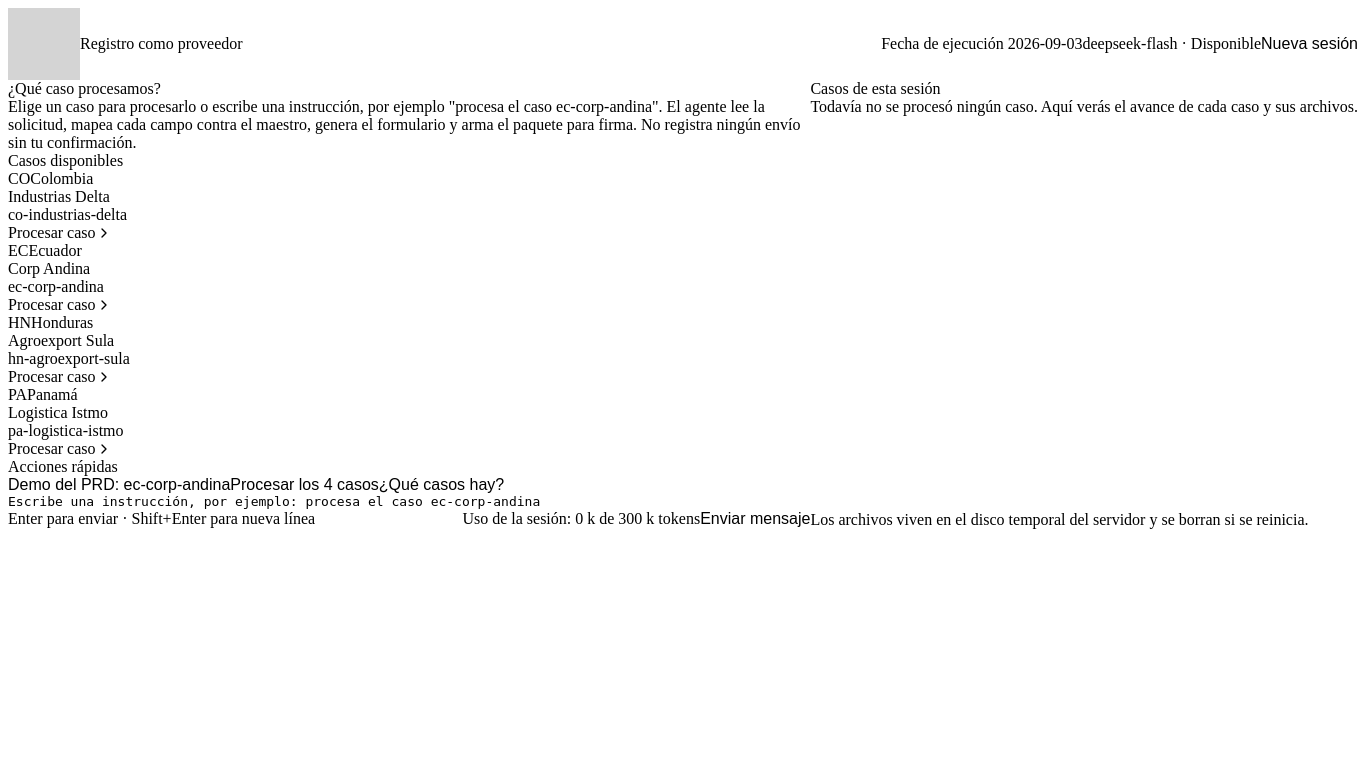
Scenario: App en escritorio: panel de casos y archivos › un 401 al pedir la vista previa devuelve a la pantalla de acceso con el aviso del servidor
Click the button "¿Qué casos hay?" at (442, 485), box [379,476,504,494]
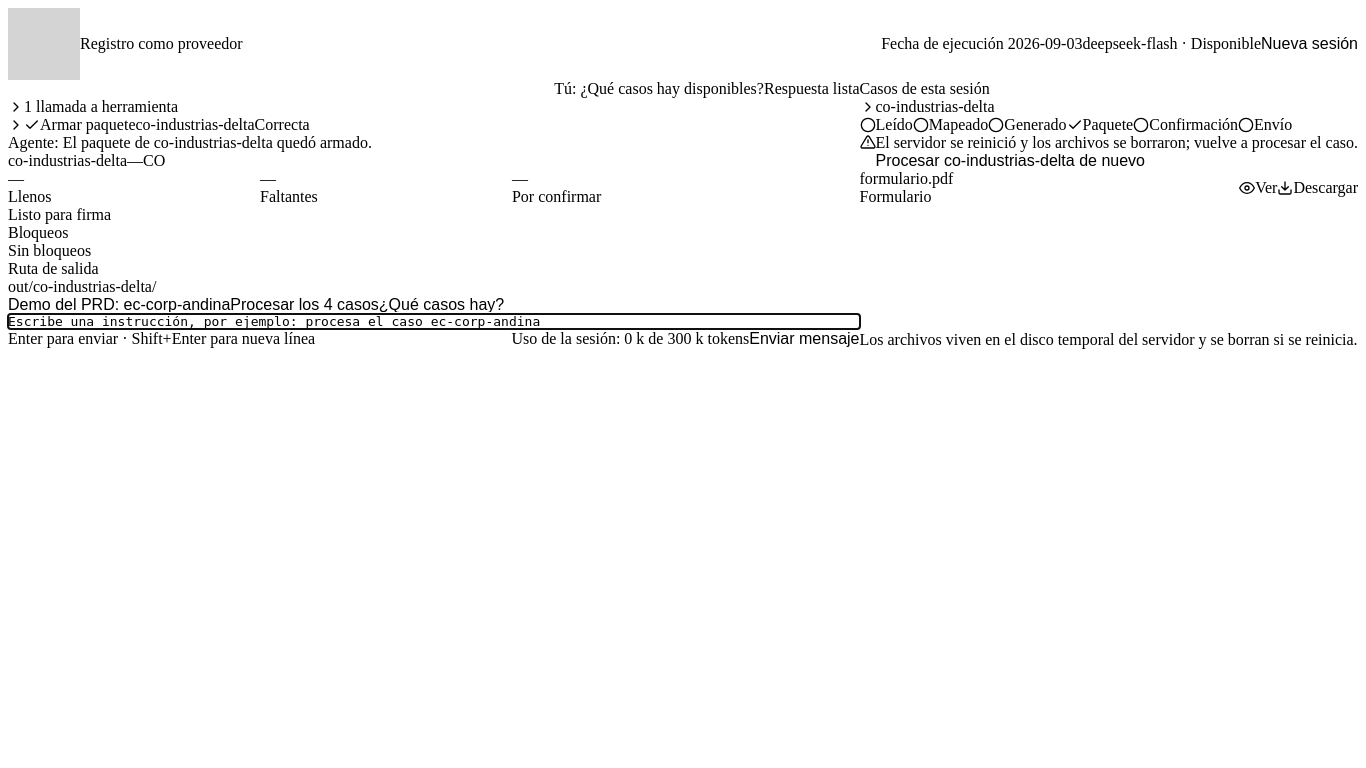
expect the list item "El paquete de co-industrias-delta quedó armado." is shown: met, box [63,134,372,151]
Click the button with aria-label "Ver formulario.pdf" at (1258, 188), box [1239,179,1277,197]
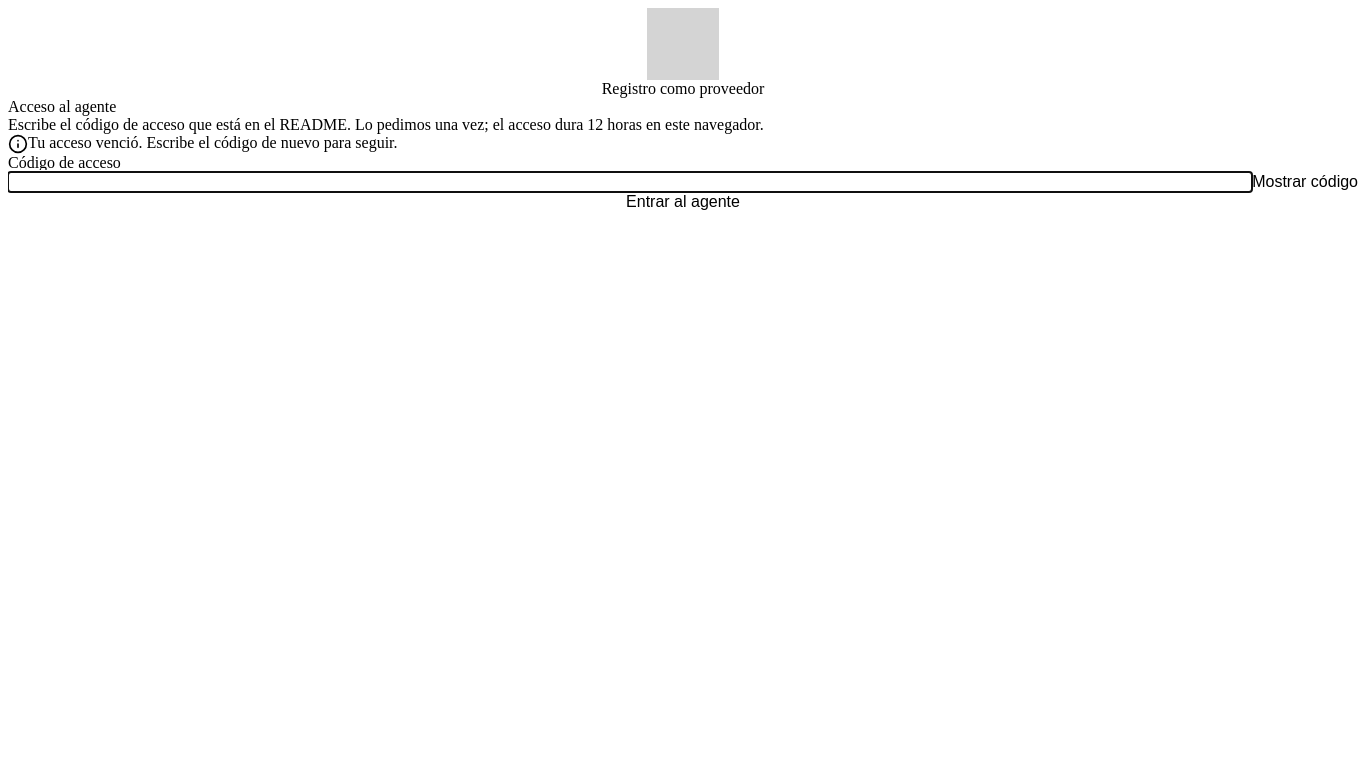
expect the heading "Acceso al agente" is shown: met, box [8,98,116,115]
expect the text "Tu acceso venció. Escribe el código de nuevo para seguir." is shown: met, box [28,134,398,151]
